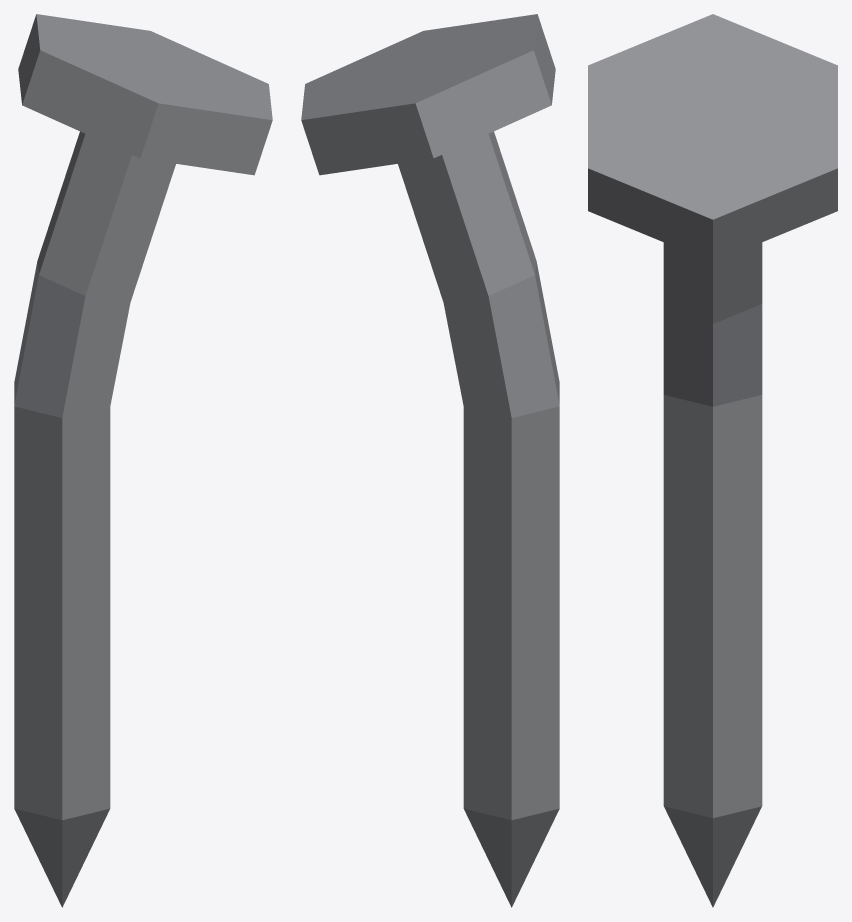
Rendered from SM_Item_Nail_05.fbx.
3 views of the same model, side by side, from view 1: azimuth 30°, elevation 25°; view 2: azimuth 150°, elevation 25°; view 3: azimuth 270°, elevation 25° (orthographic). The views are drawn at different scales.
Parts seen in each view (by area): view 1: SM_Item_Nail_05; view 2: SM_Item_Nail_05; view 3: SM_Item_Nail_05.
Boxes of the visible parts, <box> form: SM_Item_Nail_05: <box>14,14,272,907</box>; SM_Item_Nail_05: <box>301,14,559,907</box>; SM_Item_Nail_05: <box>588,14,837,907</box>.
Size of the model in its own units: 4.04 by 13.08 by 3.35.
